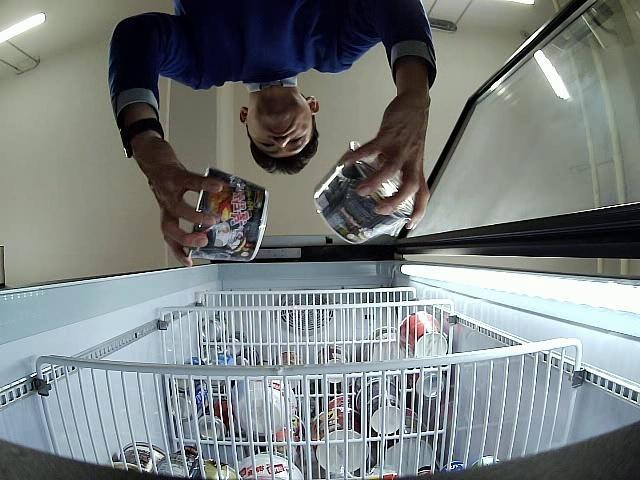07_buldak_L: (314, 140, 416, 244), (188, 167, 269, 261)
